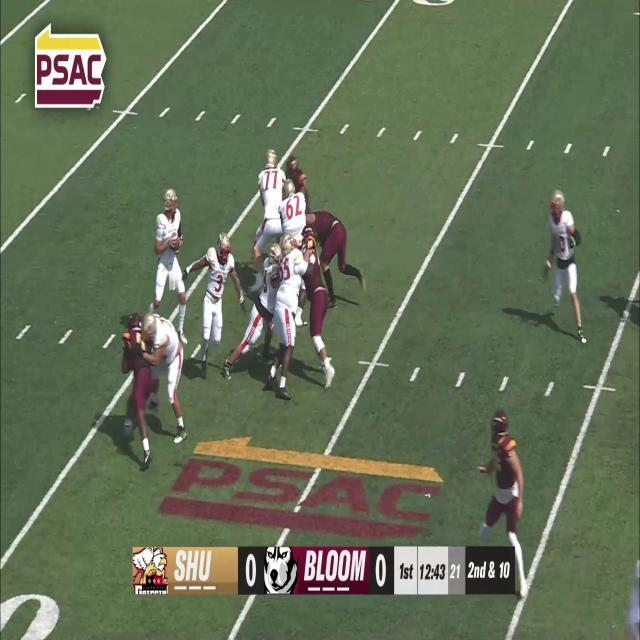football: (170, 233, 180, 254)
